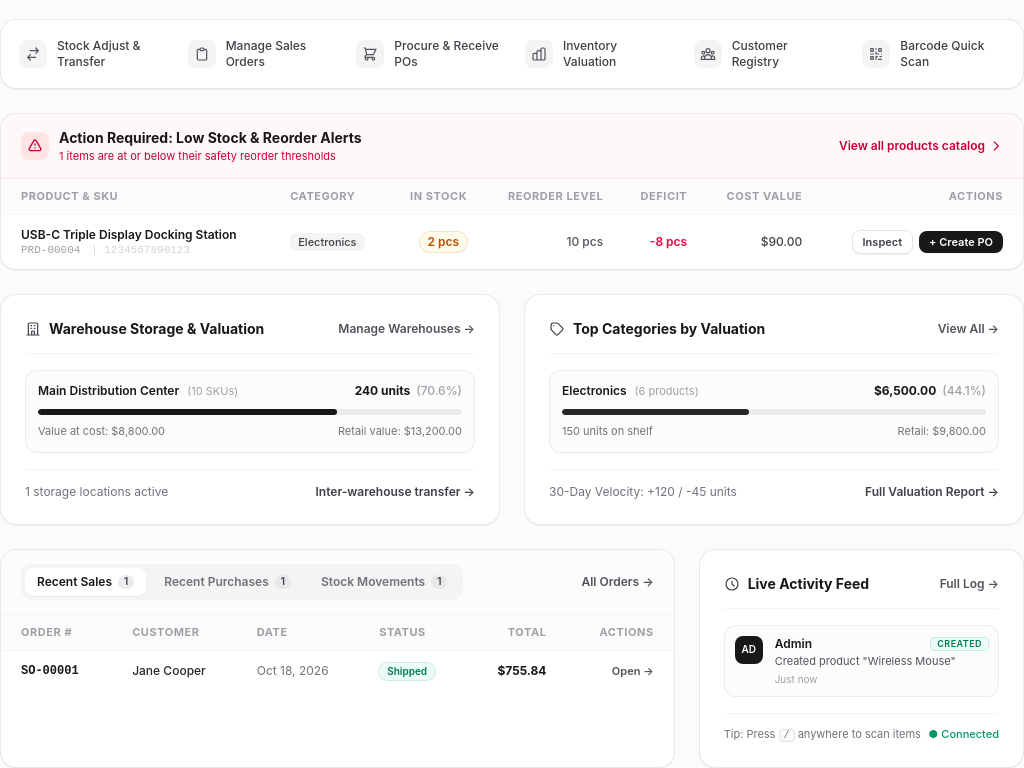
it: DashboardView › allows switching between operations tabs (Sales, Purchases, Movements)
(page scrolled)
Click the button "Recent Purchases 1": x=228, y=582 x1=152 y1=568 x2=303 y2=596
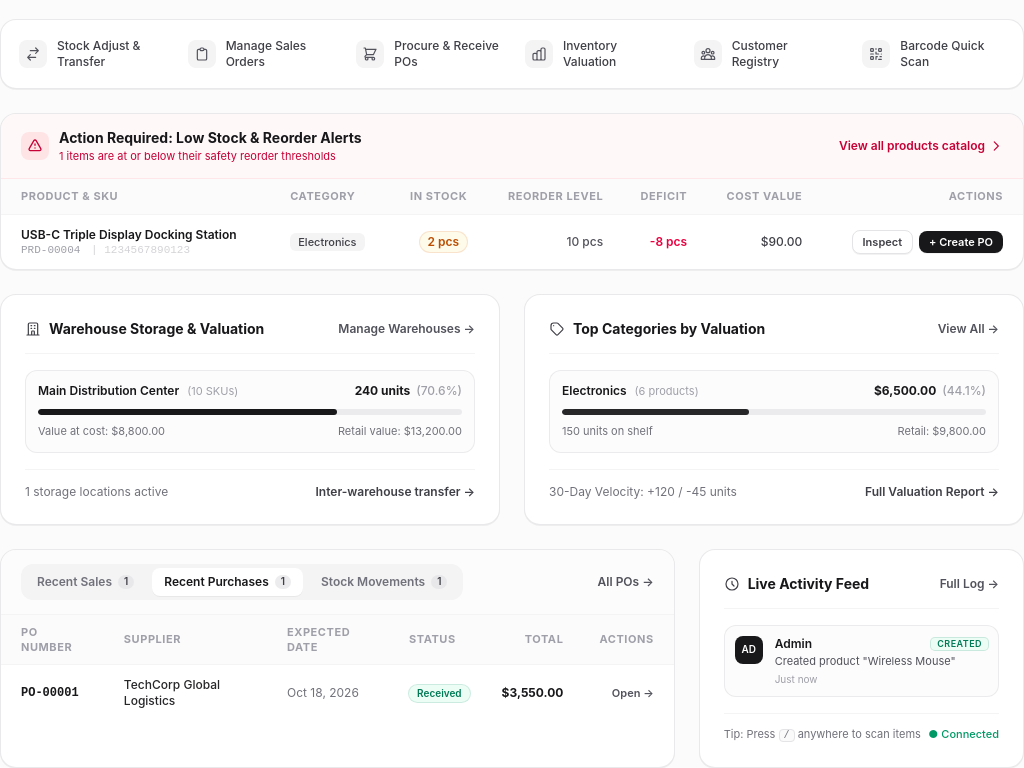
Result: the text "PO-00001" is shown at x1=1 y1=665 x2=108 y2=721
Result: the text "TechCorp Global Logistics" is shown at x1=108 y1=665 x2=271 y2=721
Click the button "Stock Movements 1": x=384, y=582 x1=309 y1=568 x2=459 y2=596
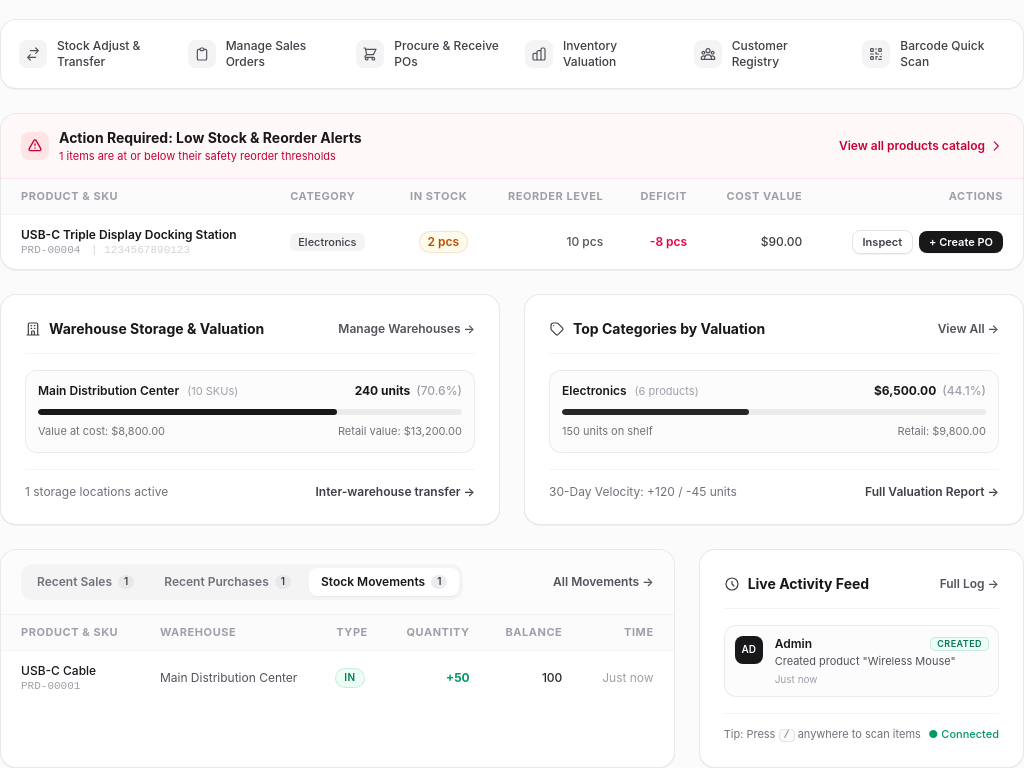
Result: the text "USB-C Cable" is shown at x1=21 y1=663 x2=96 y2=678
Result: the text "+50" is shown at x1=386 y1=650 x2=486 y2=705
